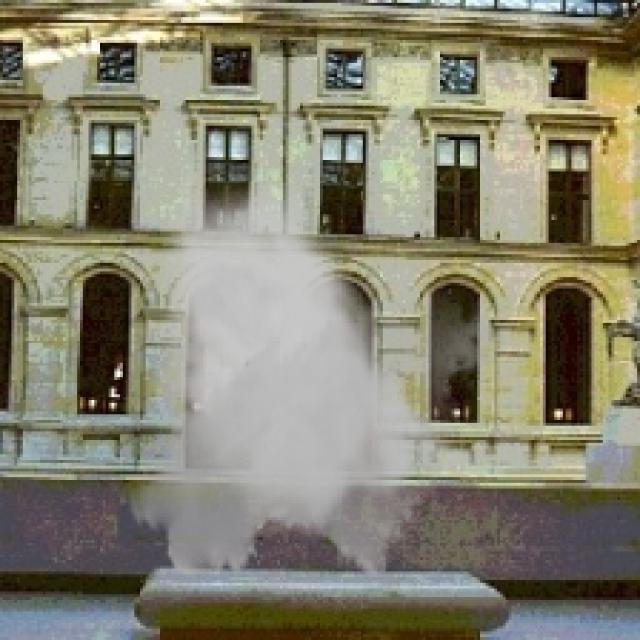Smoke: (117, 166, 509, 588)
